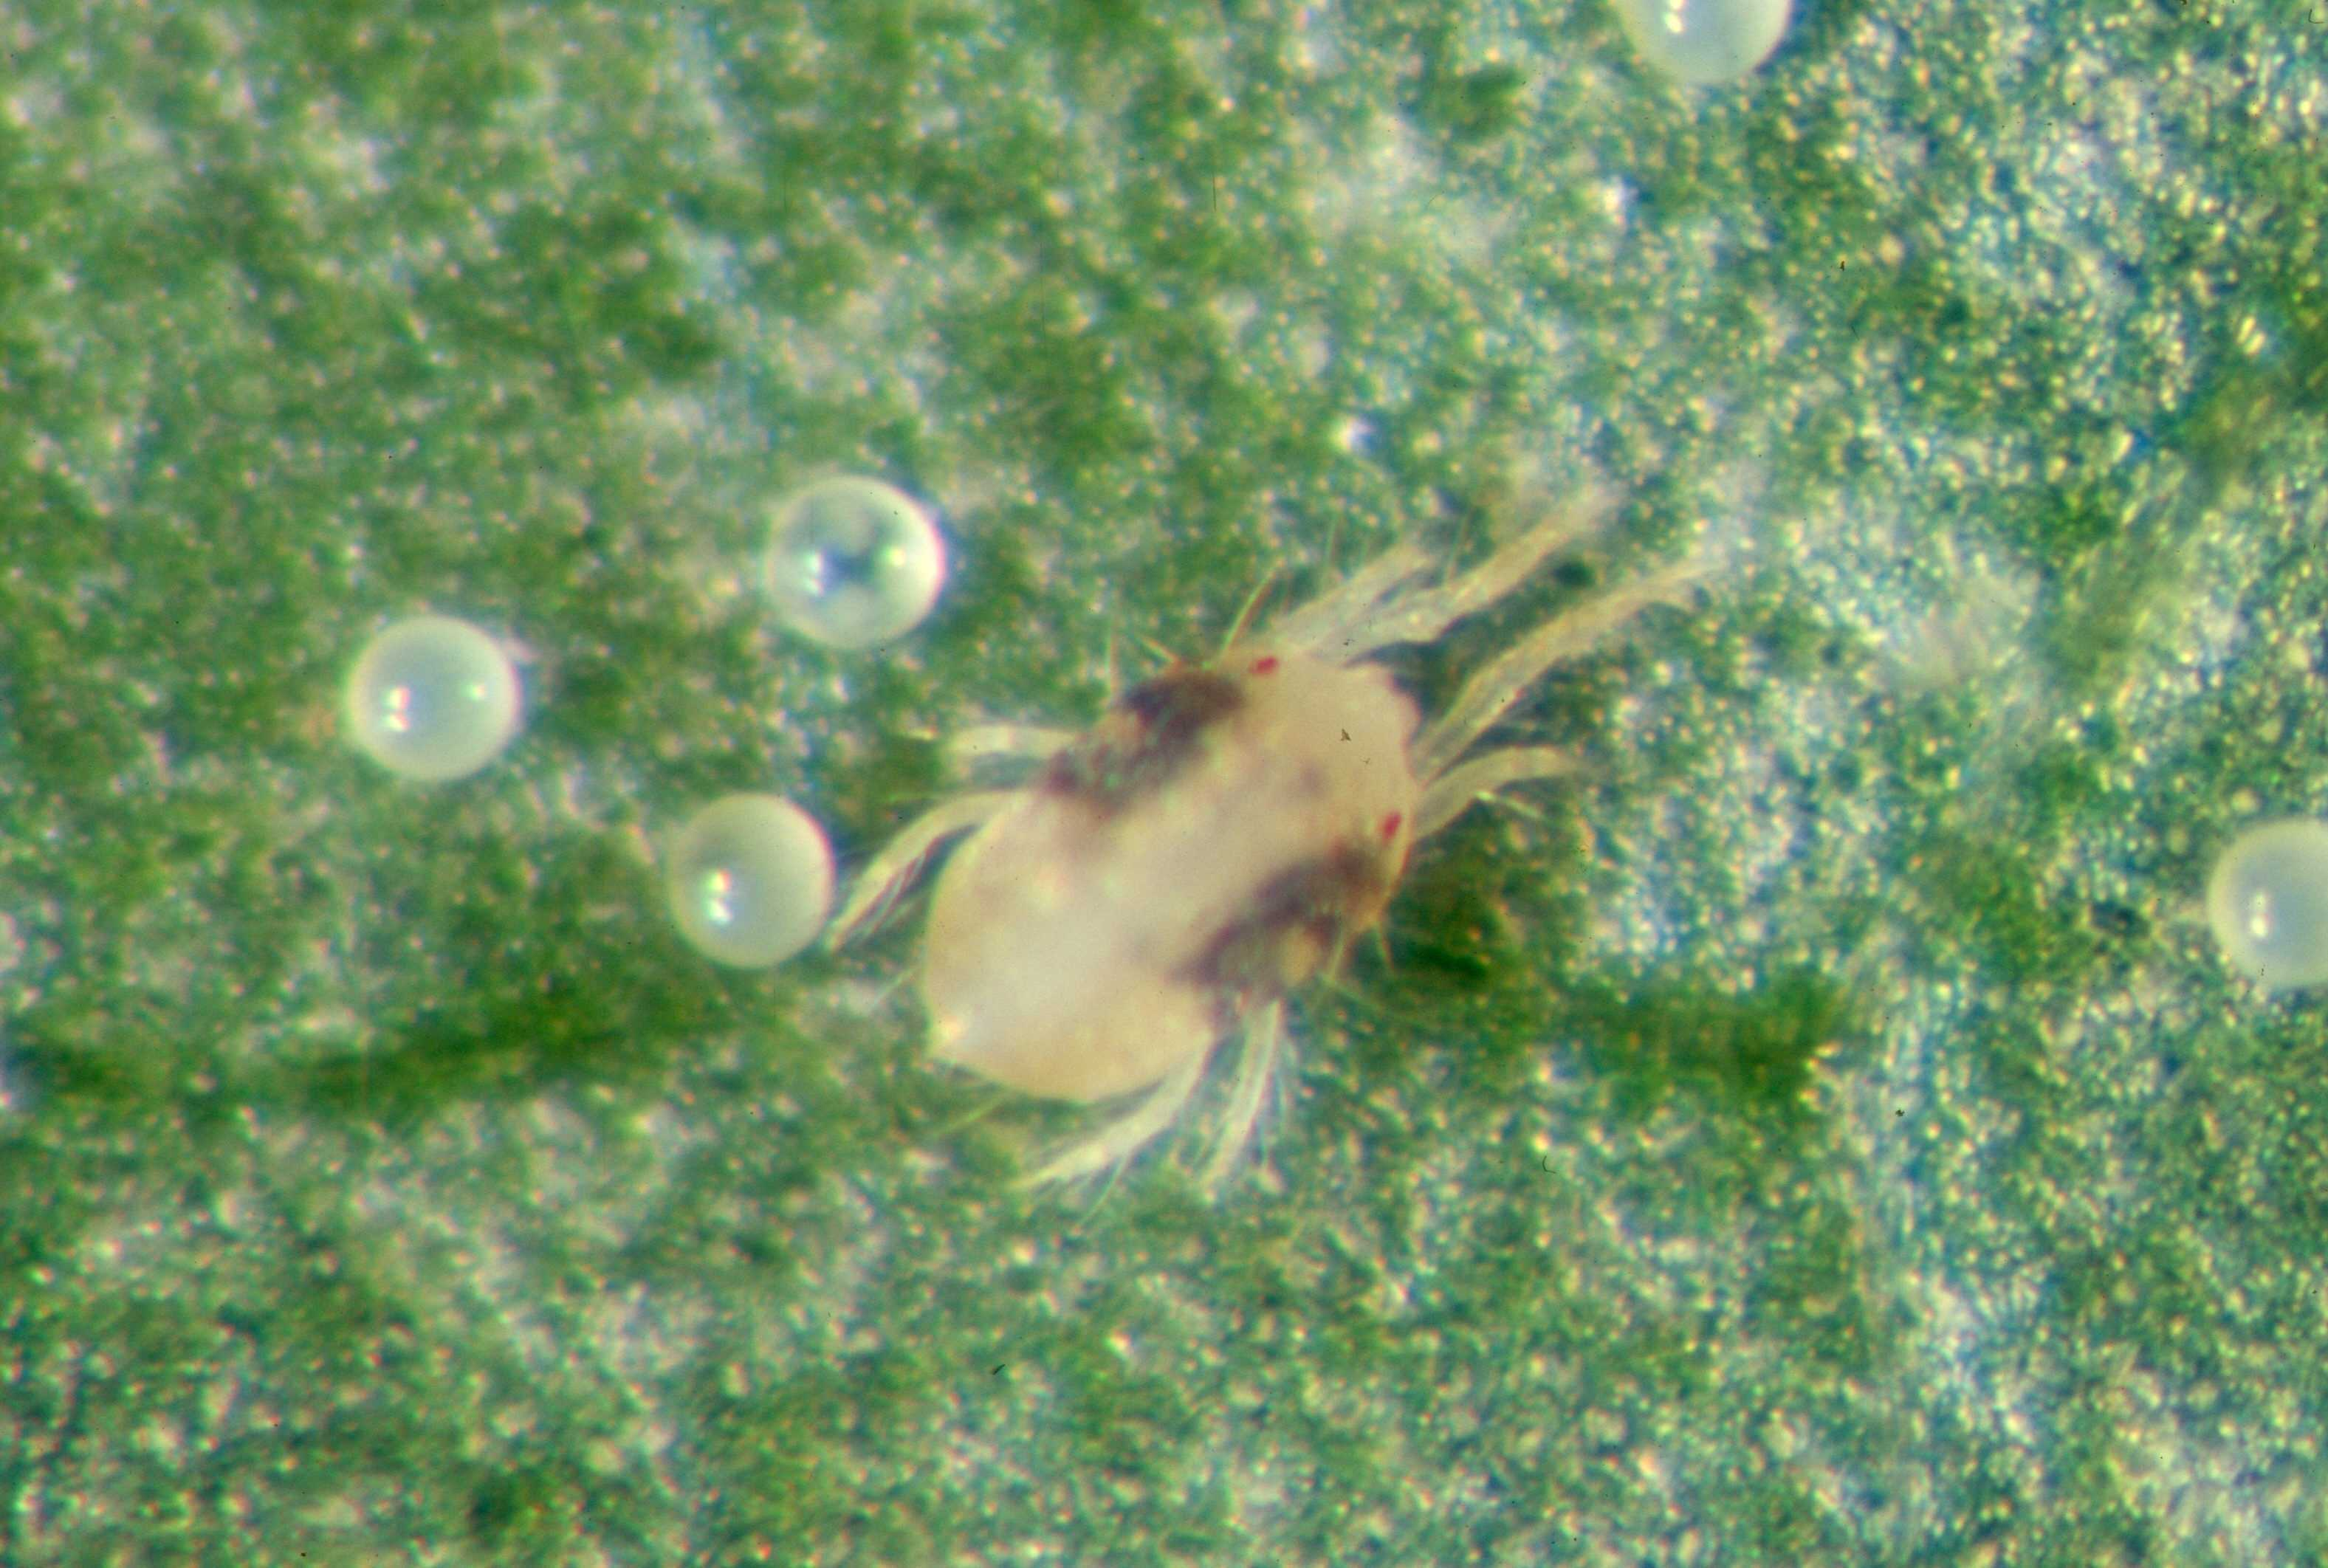Mites: (952, 498, 1609, 1226)
